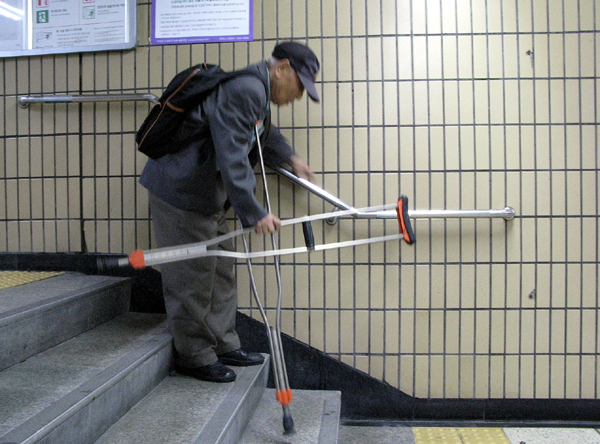crutches: (117, 41, 416, 432)
